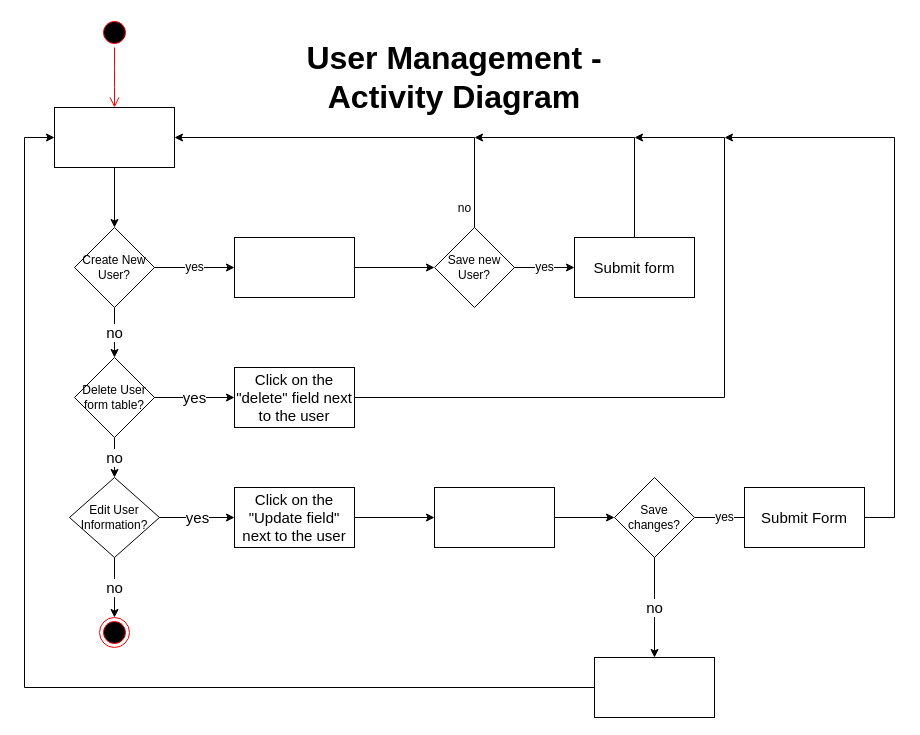
Image size: 920x735. Some labels were removed from this diagram. Here are the shapes that lost their labels. From the top down, the centre of each, then its label:
[114,137]: List All Users
[294,267]: Fill "New User" Form
[494,517]: Modify the information on the new form
[654,687]: Discard Changes
